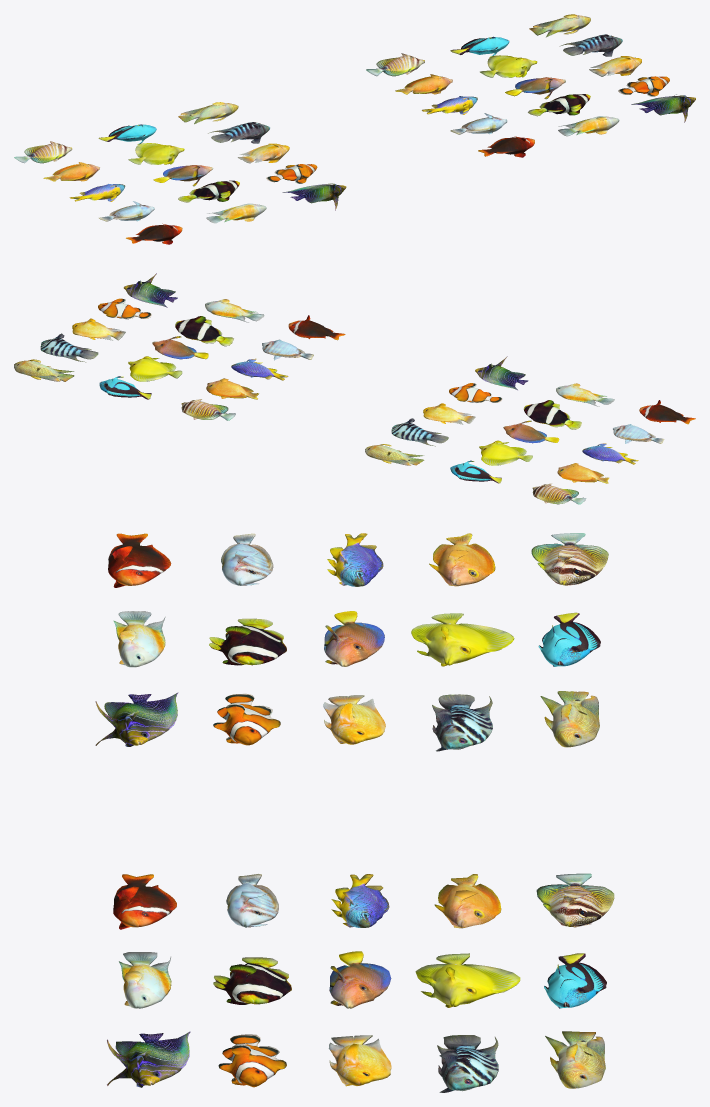
File: tropicalFeesh2.glb
3 views of the same model, one above another, from view 1: azimuth 30°, elevation 25°; view 2: azimuth 150°, elevation 25°; view 3: azimuth 270°, elevation 25° (orthographic). The views are drawn at different scales.
Visible parts, largest first — view 1: lf4, fh4, lf5, lf14, lf10, fh15, fh5, lf2, fh10, lf0, fh2, lf13 (+18 smaller); view 2: lf10, fh10, lf4, fh4, lf14, lf5, fh15, lf2, fh5, lf0, fh2, fh0 (+18 smaller); view 3: lf4, fh4, lf14, fh15, lf0, lf5, fh0, lf10, fh5, lf2, fh10, lf7 (+18 smaller).
Part boxes in pixels (bbox=[...]): lf4: bbox=[480, 55, 537, 77]; fh4: bbox=[128, 143, 184, 164]; lf5: bbox=[559, 34, 622, 56]; lf14: bbox=[631, 94, 695, 122]; lf10: bbox=[528, 94, 590, 116]; fh15: bbox=[282, 183, 346, 210]; fh5: bbox=[208, 122, 269, 143]; lf2: bbox=[529, 14, 590, 37]; fh10: bbox=[178, 180, 239, 202]; lf0: bbox=[366, 53, 424, 76]; fh2: bbox=[178, 102, 238, 124]; lf13: bbox=[558, 116, 619, 136]; lf10: bbox=[175, 316, 233, 346]; fh10: bbox=[523, 400, 581, 429]; lf4: bbox=[128, 356, 182, 381]; fh4: bbox=[479, 440, 532, 465]; lf14: bbox=[123, 273, 177, 307]; lf5: bbox=[40, 333, 98, 362]; fh15: bbox=[475, 356, 528, 390]; lf2: bbox=[14, 359, 74, 381]; fh5: bbox=[391, 418, 448, 446]; lf0: bbox=[181, 399, 235, 420]; fh2: bbox=[365, 444, 424, 465]; fh0: bbox=[532, 483, 586, 504]; lf4: bbox=[415, 953, 520, 1007]; fh4: bbox=[411, 613, 514, 666]; lf14: bbox=[107, 1031, 190, 1087]; fh15: bbox=[95, 692, 178, 746]; lf0: bbox=[536, 873, 614, 927]; lf5: bbox=[437, 1035, 498, 1092]; fh0: bbox=[531, 533, 608, 585]; lf10: bbox=[213, 957, 291, 1004]; fh5: bbox=[432, 694, 492, 751]; lf2: bbox=[545, 1031, 605, 1088]; fh10: bbox=[209, 618, 286, 665]; lf7: bbox=[329, 951, 391, 1008].
Bounding box in the file's own units: 48.9 × 1.91 × 19.29.
Materials: 15 (15 with a texture image).
